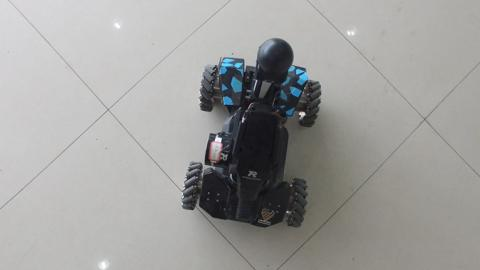chariot: (186, 32, 316, 240)
